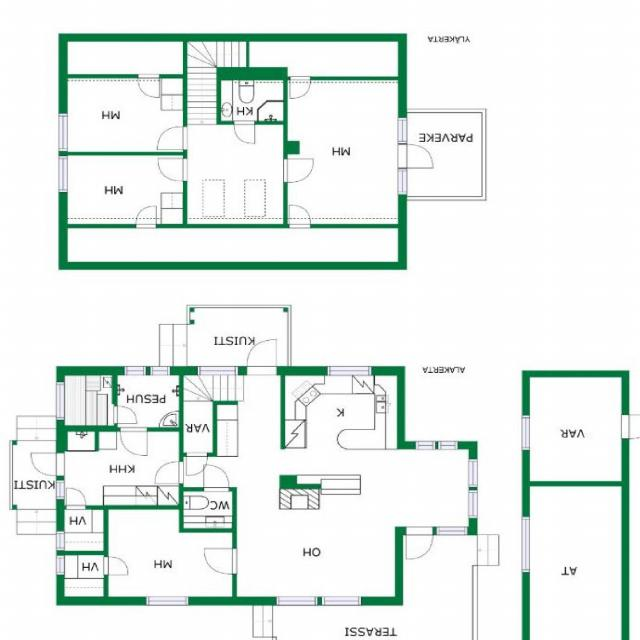door: (246, 339, 276, 375), (406, 527, 433, 558), (204, 548, 236, 574), (398, 144, 432, 168), (31, 453, 64, 476), (283, 158, 313, 182), (120, 428, 146, 455), (157, 158, 187, 181), (204, 464, 228, 491), (158, 126, 186, 149), (156, 461, 183, 483), (289, 205, 311, 228), (186, 452, 207, 476), (621, 414, 640, 439), (234, 122, 255, 144), (138, 75, 159, 97), (104, 556, 128, 575), (136, 206, 156, 228), (290, 76, 310, 98), (114, 406, 138, 424), (66, 488, 86, 509)
